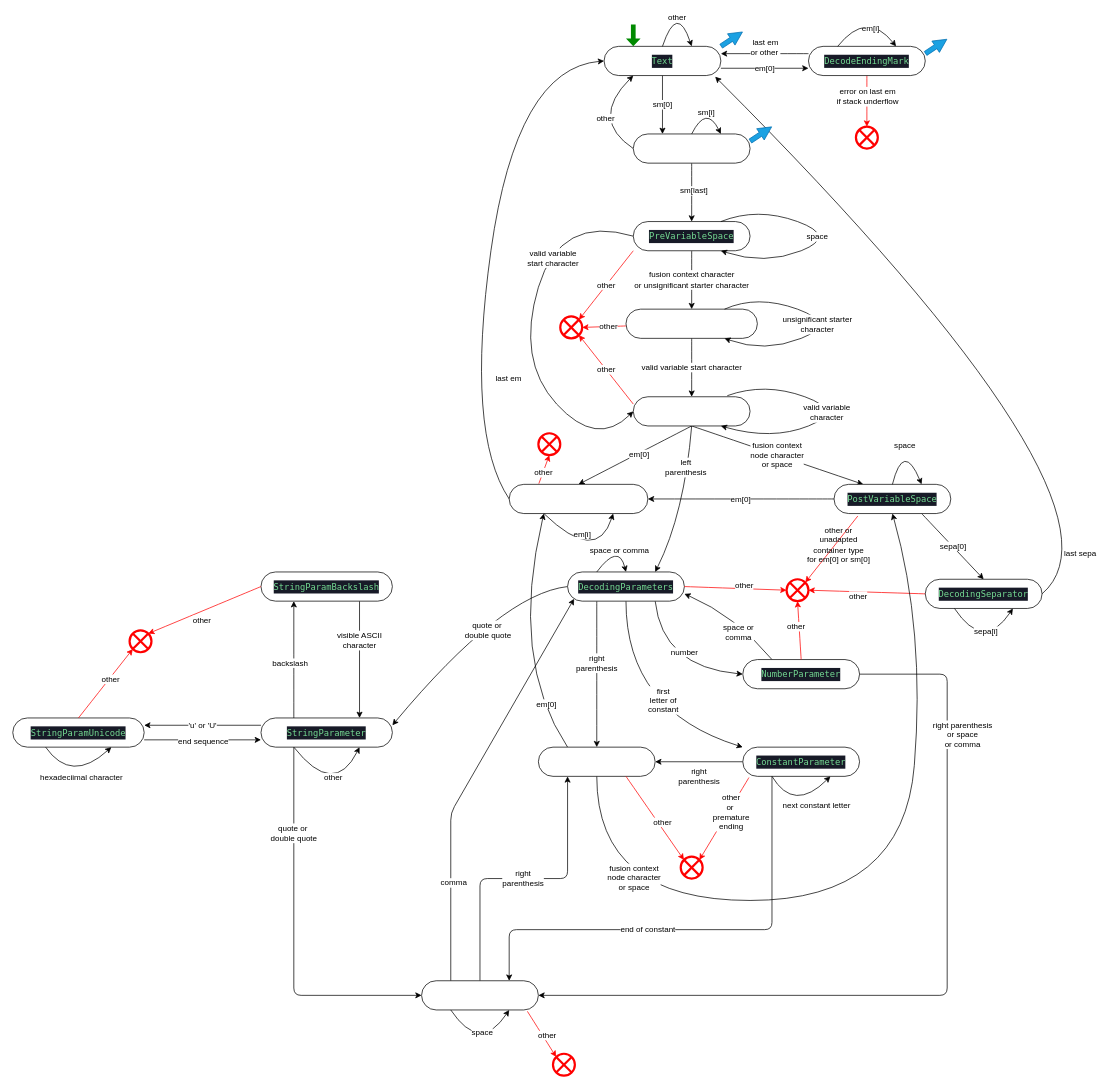
This 1109x1090 diagram has some shape labels left out. Here are the shapes that lost their labels. From the top down, the box of each, then its label:
(633, 133, 750, 163): OpenVariable
(625, 308, 757, 338): StartDecodingVariable
(633, 396, 750, 426): DecodingVariable
(508, 484, 648, 514): DecodingClosingVariable
(538, 746, 655, 776): EndOfParameters
(421, 980, 538, 1010): AfterParameter
